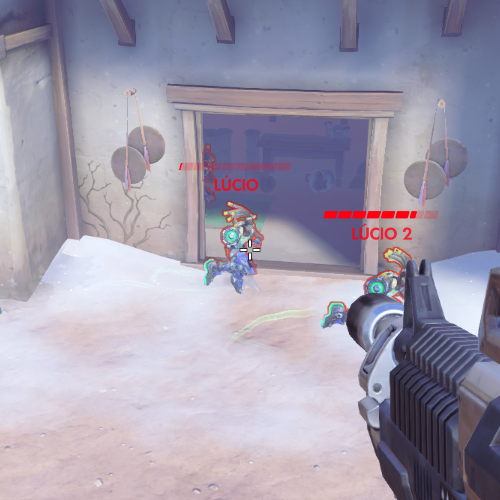hpbar: (323, 210, 439, 219), (179, 162, 292, 171)
